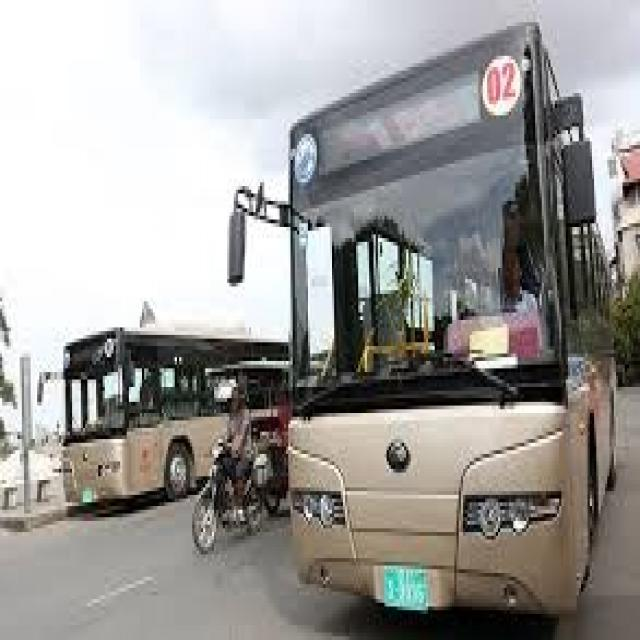bus: (268, 10, 638, 640), (50, 316, 287, 546)
